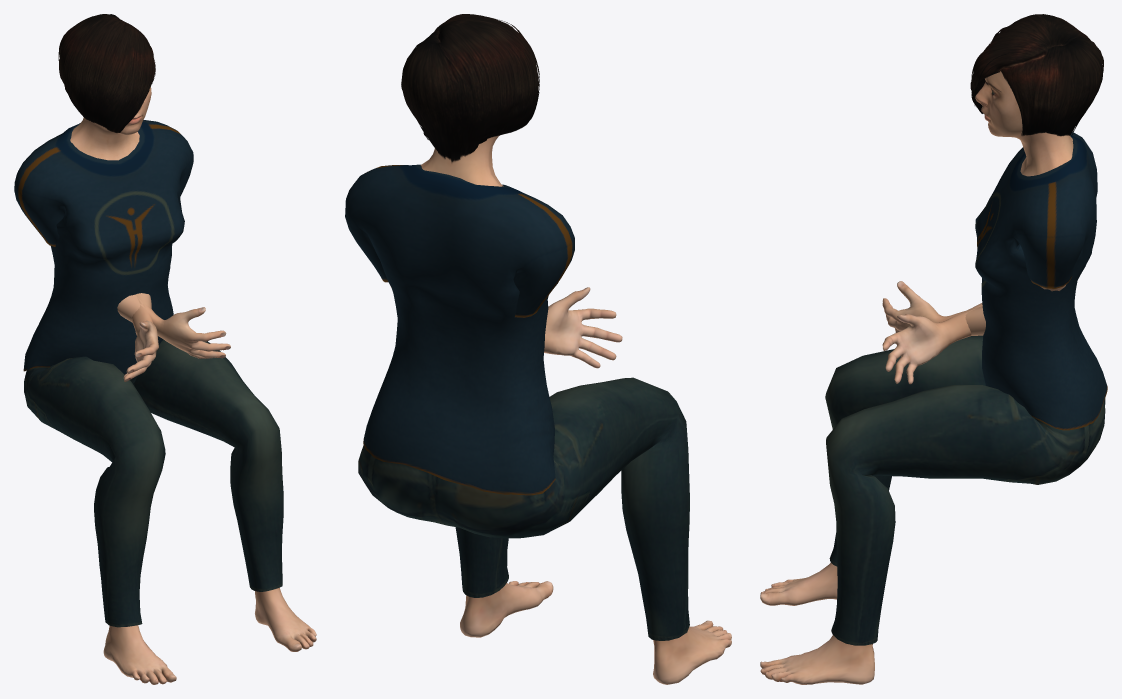
Rendered from congregant_f1.glb.
The picture shows the model from 3 angles, left to right: view 1: azimuth 30°, elevation 25°; view 2: azimuth 150°, elevation 25°; view 3: azimuth 270°, elevation 25°; orthographic projection. The views are drawn at different scales.
Parts seen in each view (by area): view 1: congregant_f1.female_casualsuit01, congregant_f1.body, congregant_f1.bob01; view 2: congregant_f1.female_casualsuit01, congregant_f1.bob01, congregant_f1.body; view 3: congregant_f1.female_casualsuit01, congregant_f1.body, congregant_f1.bob01.
Boxes of the visible parts, left/top/right/bottom form: congregant_f1.female_casualsuit01: left=14, top=120, right=283, bottom=627; congregant_f1.body: left=70, top=86, right=316, bottom=684; congregant_f1.bob01: left=58, top=14, right=155, bottom=132; congregant_f1.female_casualsuit01: left=345, top=164, right=689, bottom=640; congregant_f1.bob01: left=401, top=14, right=539, bottom=162; congregant_f1.body: left=391, top=135, right=731, bottom=684; congregant_f1.female_casualsuit01: left=825, top=132, right=1107, bottom=645; congregant_f1.body: left=760, top=55, right=1073, bottom=684; congregant_f1.bob01: left=970, top=14, right=1103, bottom=136.
Bounding box in the file's own units: 0.4374 × 1.26 × 0.643.
Materials: 6 (6 with a texture image).
